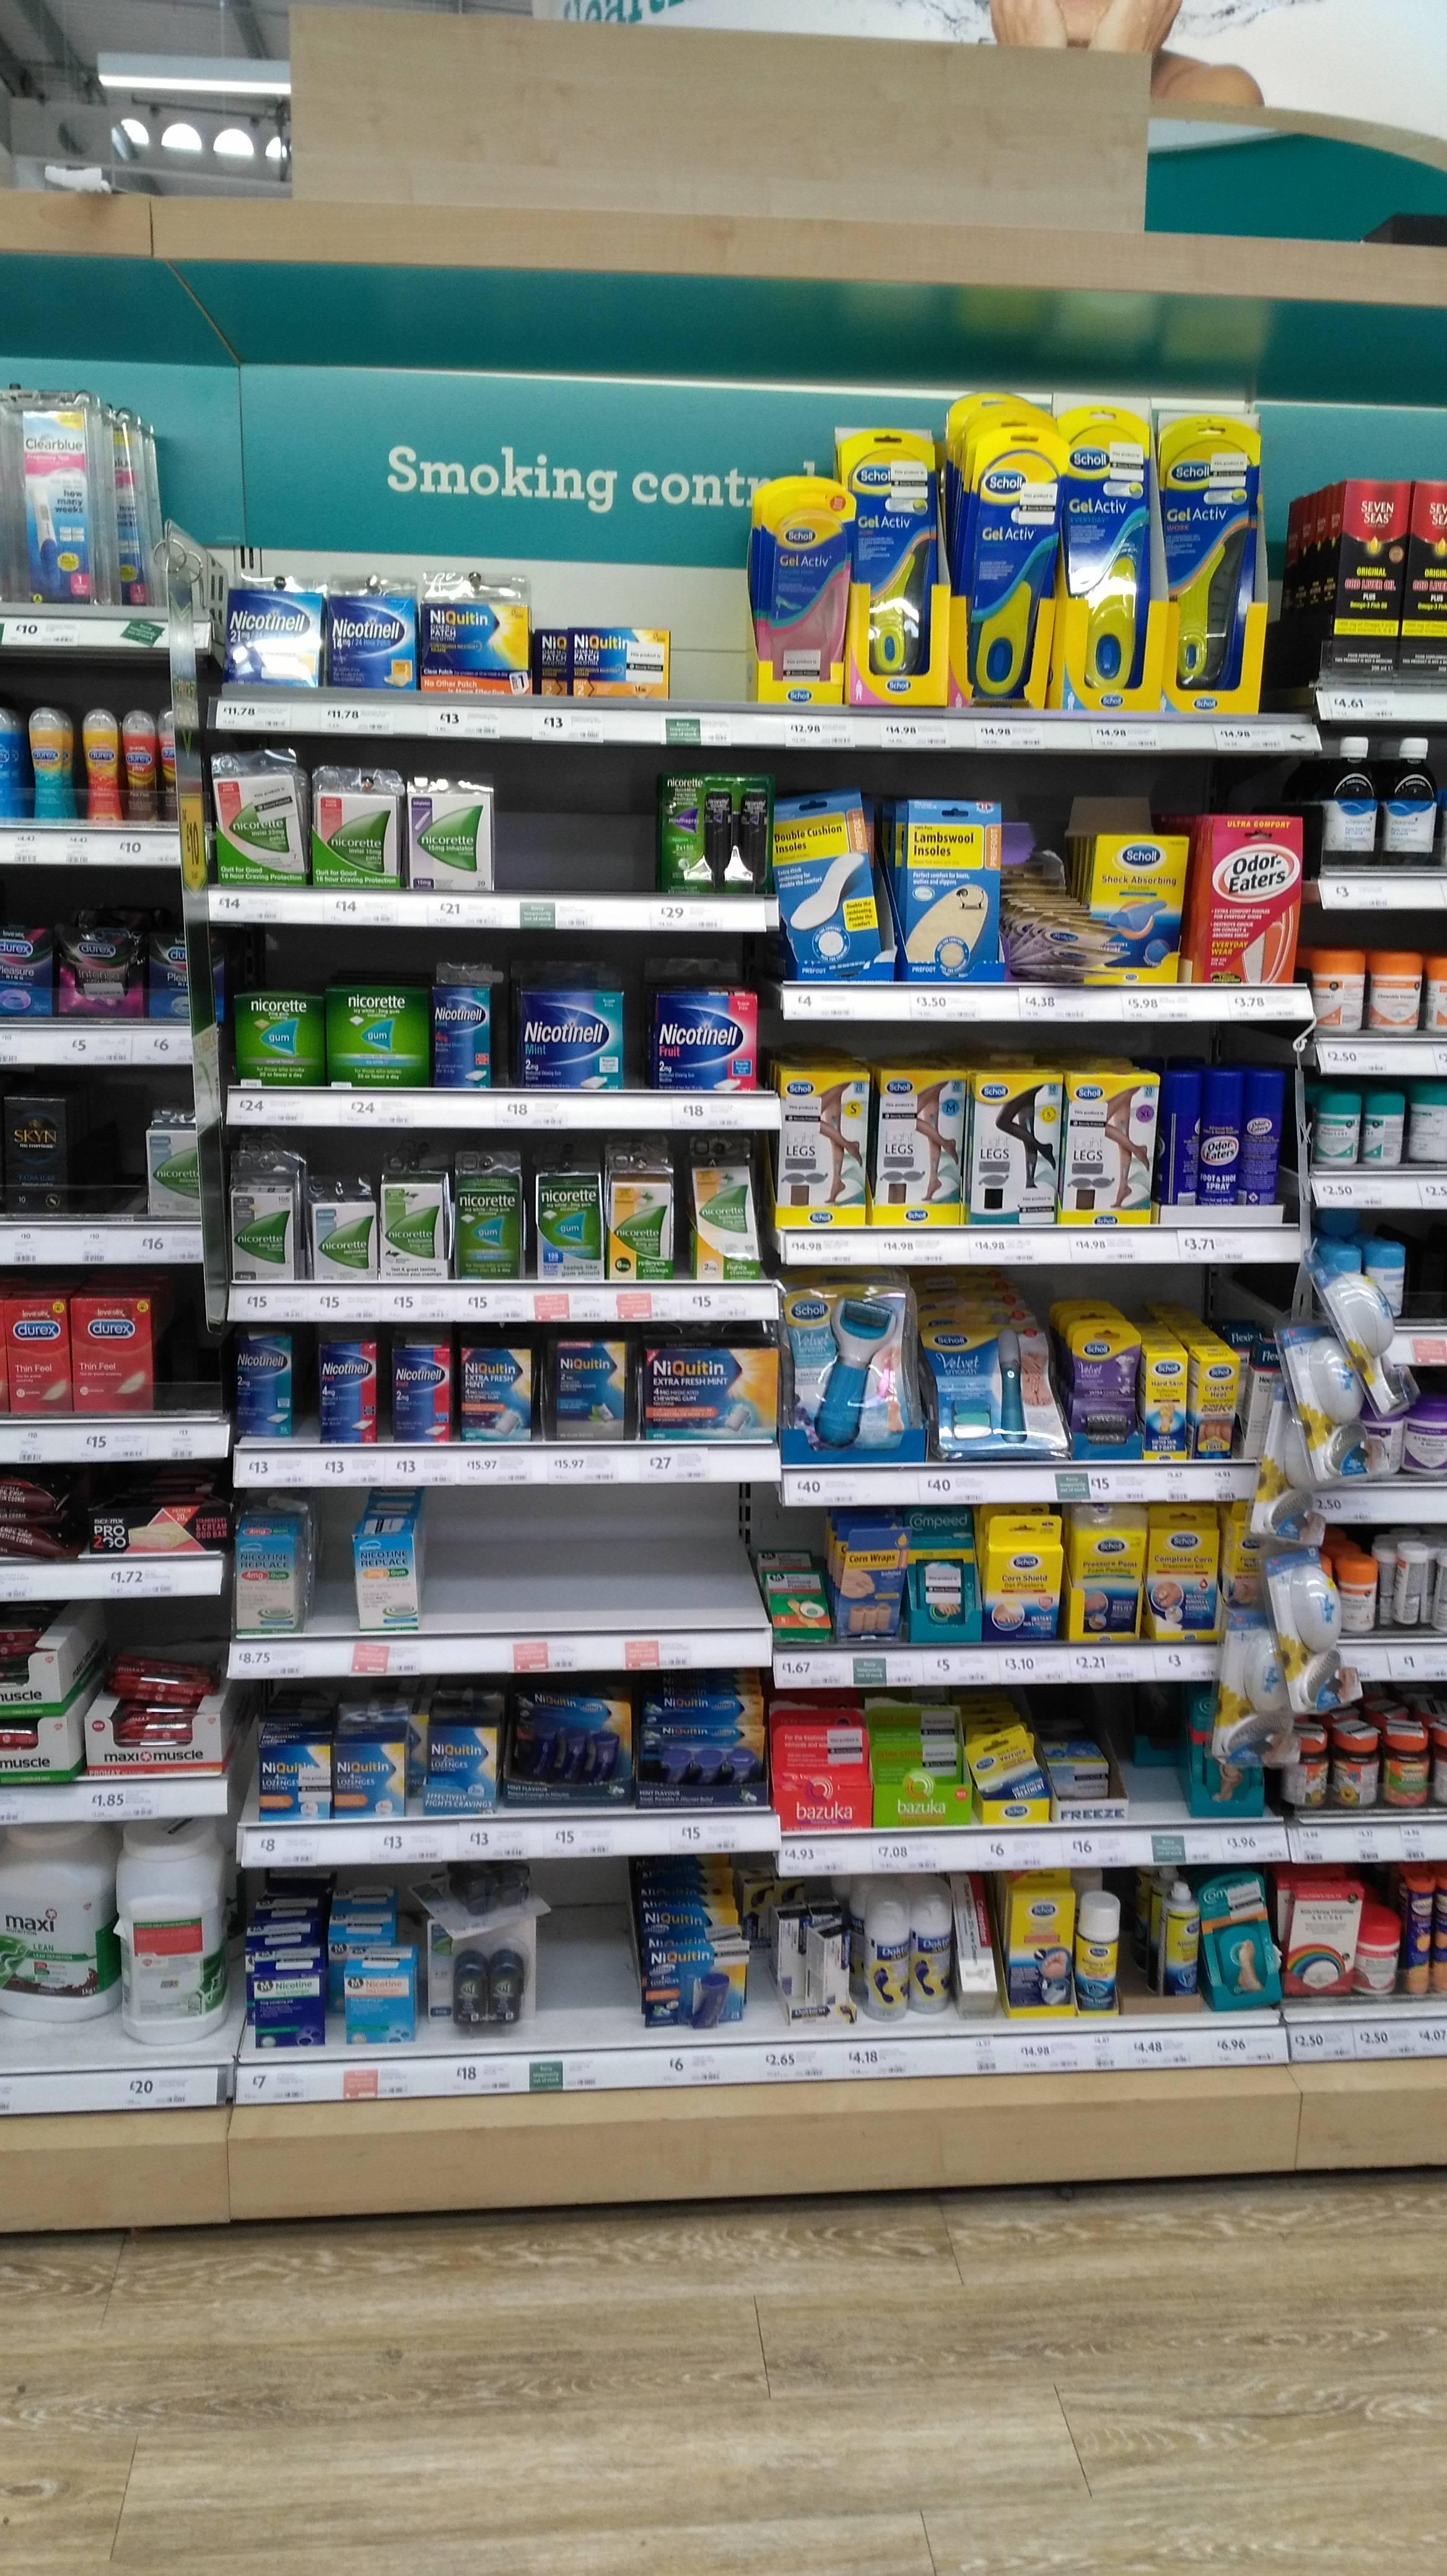empty: (425, 1499, 759, 1631), (497, 782, 655, 893), (665, 556, 755, 713), (550, 1884, 639, 2042)
